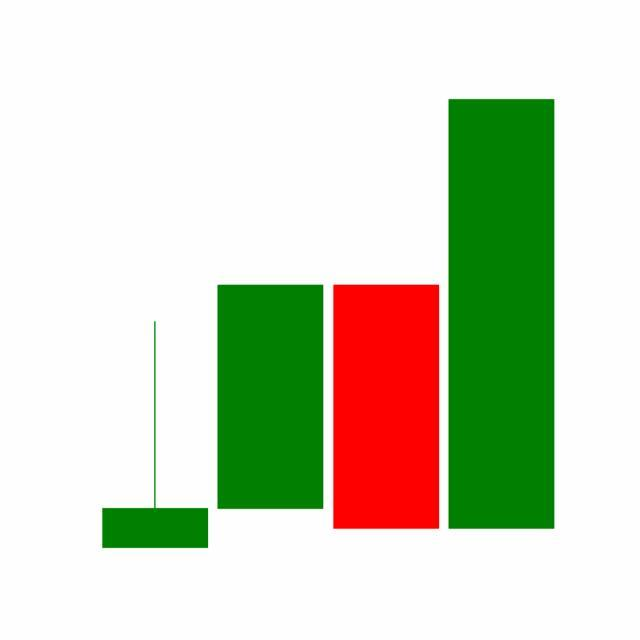Marubozu: (444, 95, 560, 534)
